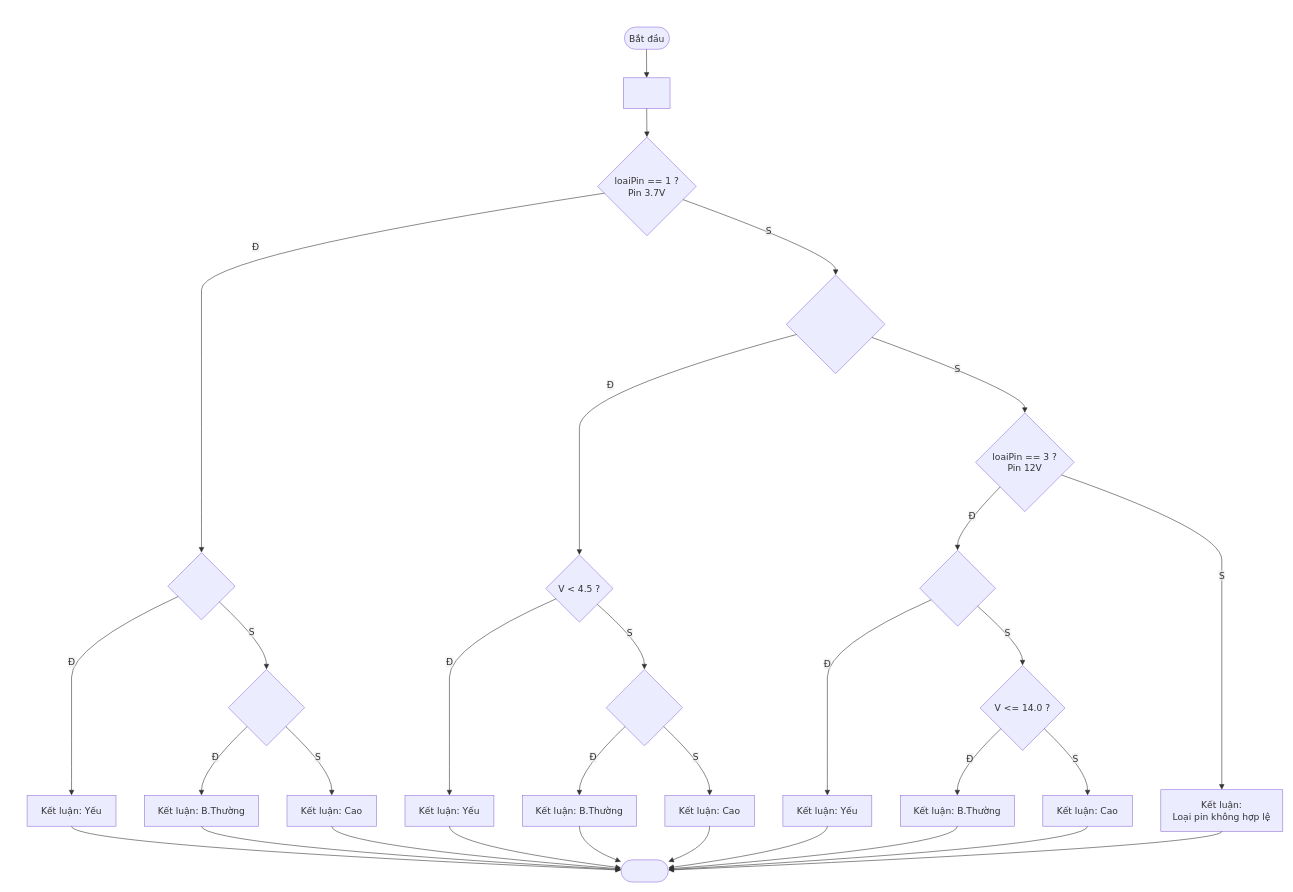
Image size: 1293x892. Some labels were removed from this diagram. Each missing label, with the centre of its shape:
"Inp" goes at (646,93).
"Kết thúc" goes at (644,870).
"loaiPin == 2 ? Pin 5V" goes at (835,324).
"V < 10.5 ?" goes at (957,588).
"V < 3.0 ?" goes at (201,586).
"V <= 4.2 ?" goes at (266,707).
"V <= 5.5 ?" goes at (644,707).
